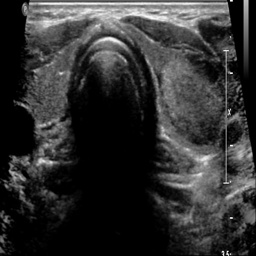mass: (153, 37, 224, 145)
